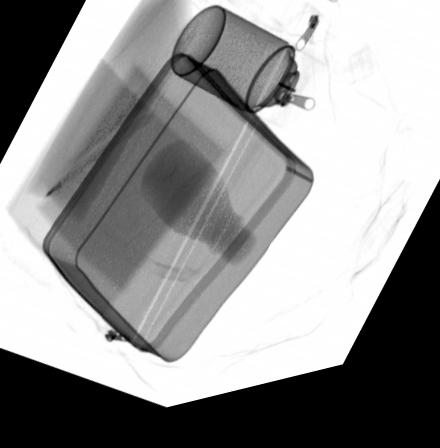Sprayer: (168, 14, 327, 144)
